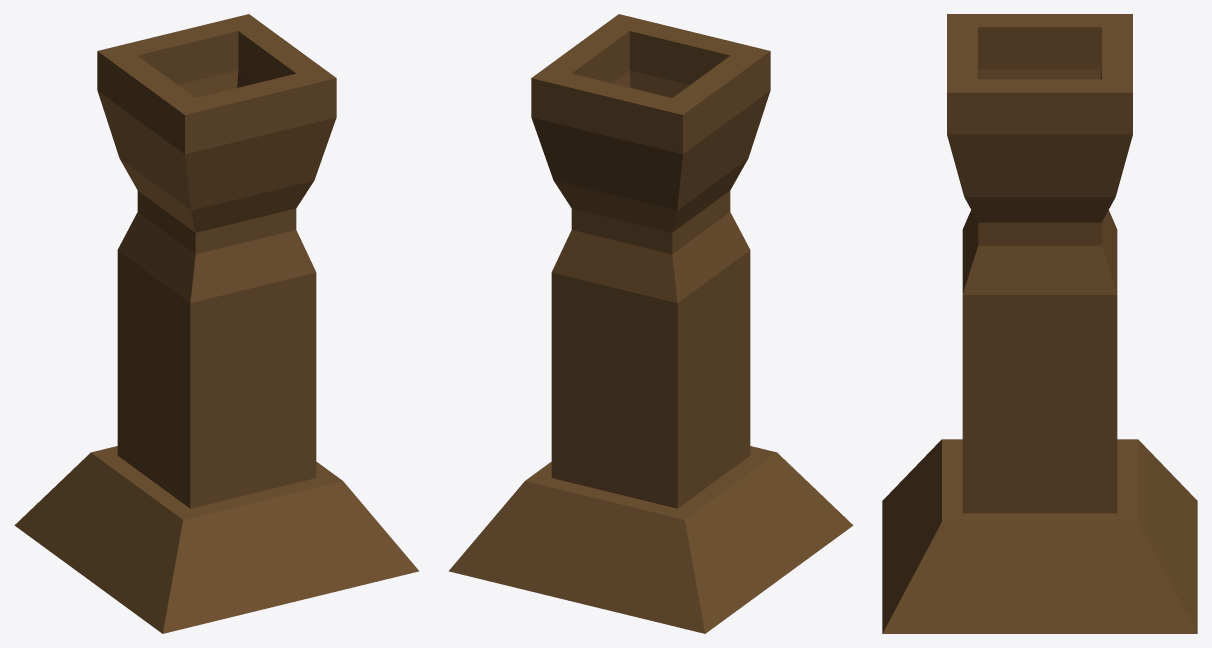
The model's file is chess_piece1.fbx.
3 views of the same model, side by side, from view 1: azimuth 30°, elevation 25°; view 2: azimuth 150°, elevation 25°; view 3: azimuth 270°, elevation 25° (orthographic). The views are drawn at different scales.
Visible parts, largest first — view 1: Strategische Figur_Turm; view 2: Strategische Figur_Turm; view 3: Strategische Figur_Turm.
Part boxes in pixels (x1=…): Strategische Figur_Turm: x1=14, y1=14, x2=418, y2=633; Strategische Figur_Turm: x1=449, y1=14, x2=853, y2=633; Strategische Figur_Turm: x1=882, y1=14, x2=1197, y2=633.
Bounding box in the file's own units: 4.89 × 8.8 × 4.89.
